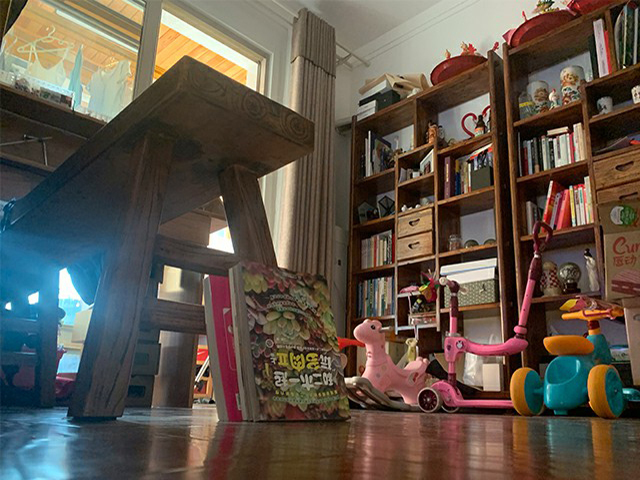book: (202, 259, 354, 424)
stool: (2, 55, 317, 424)
